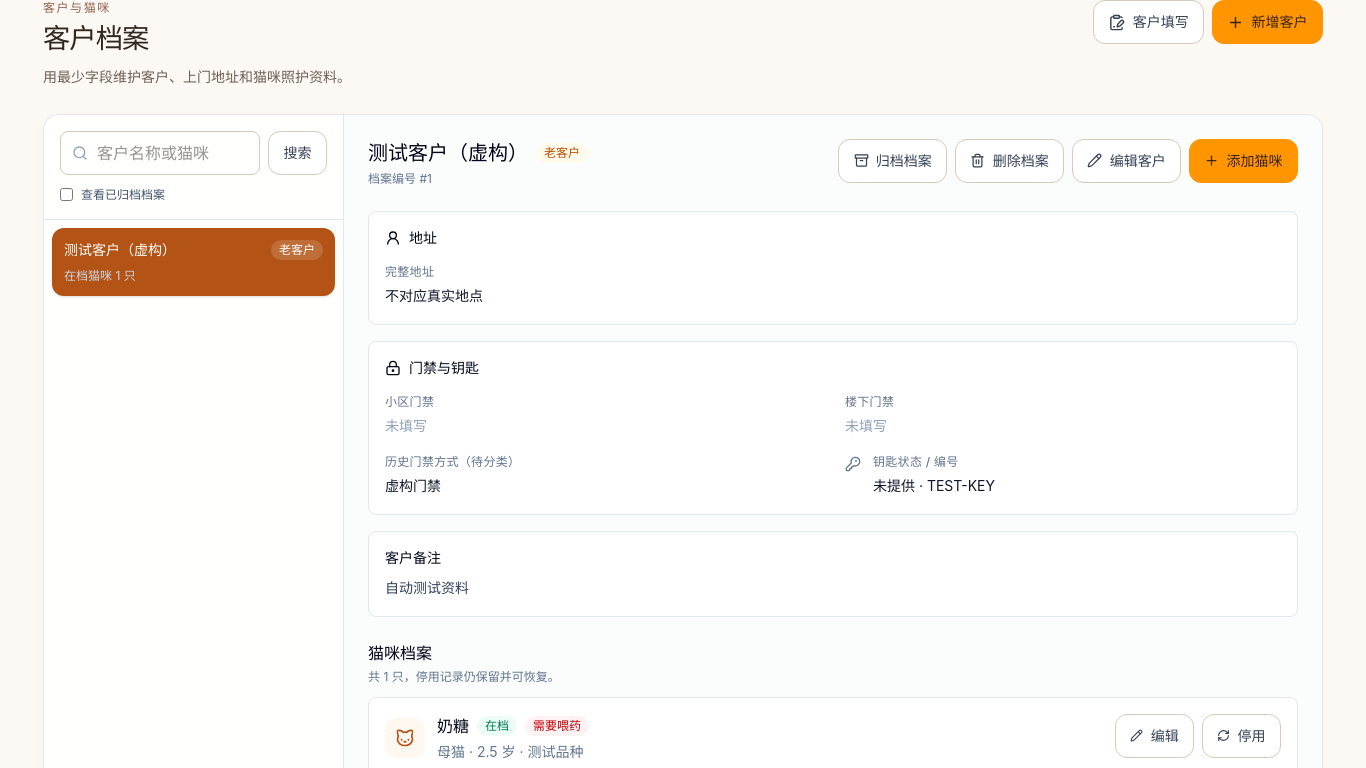
searches, adds a second cat, and soft-disables a cat
The image size is (1366, 768).
Expected: the heading "奶糖" is shown, [437, 714, 469, 738]
Type "奶糖" into the search field named "搜索客户".
click(160, 153); type("奶糖")  # box [60, 131, 260, 175]
Click the button "搜索".
click(298, 153)  # box [268, 131, 327, 175]
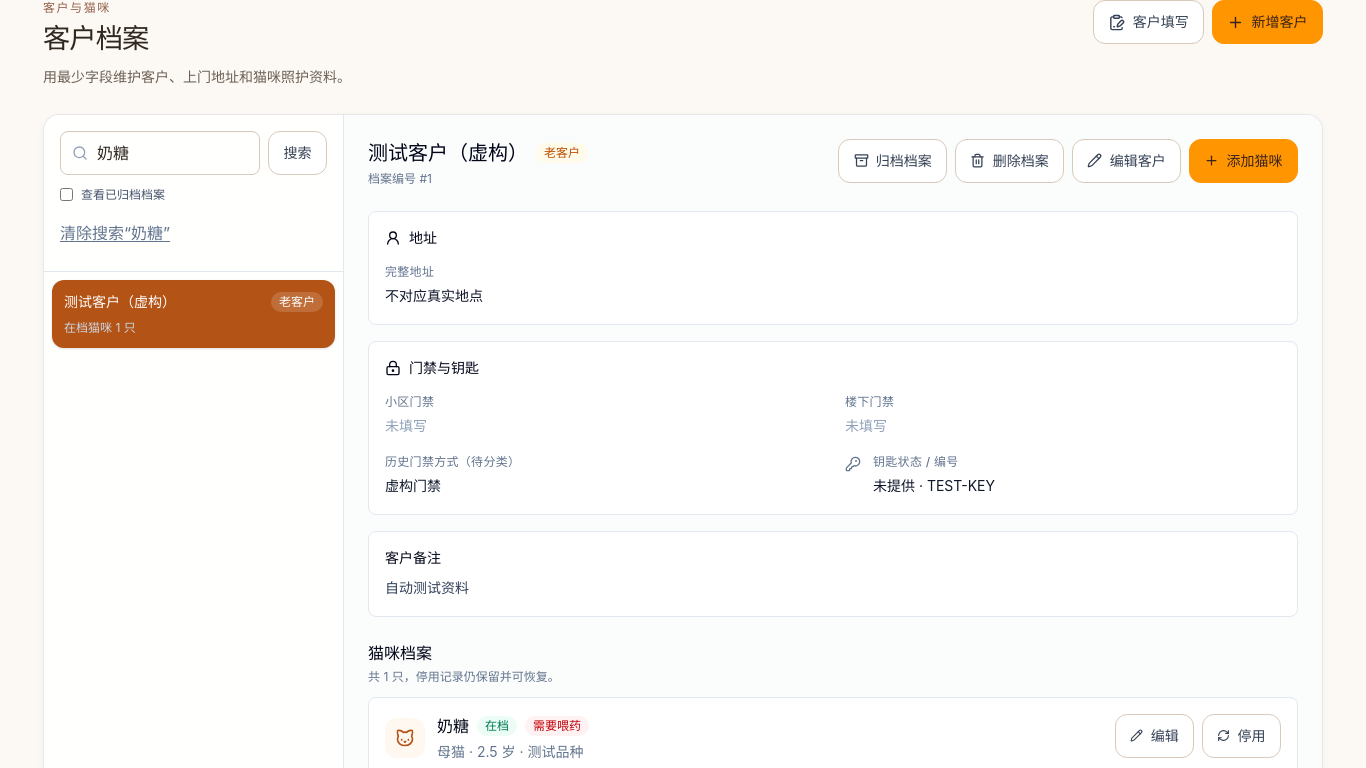
Click the button "添加猫咪".
click(1244, 161)  # box [1189, 139, 1298, 183]
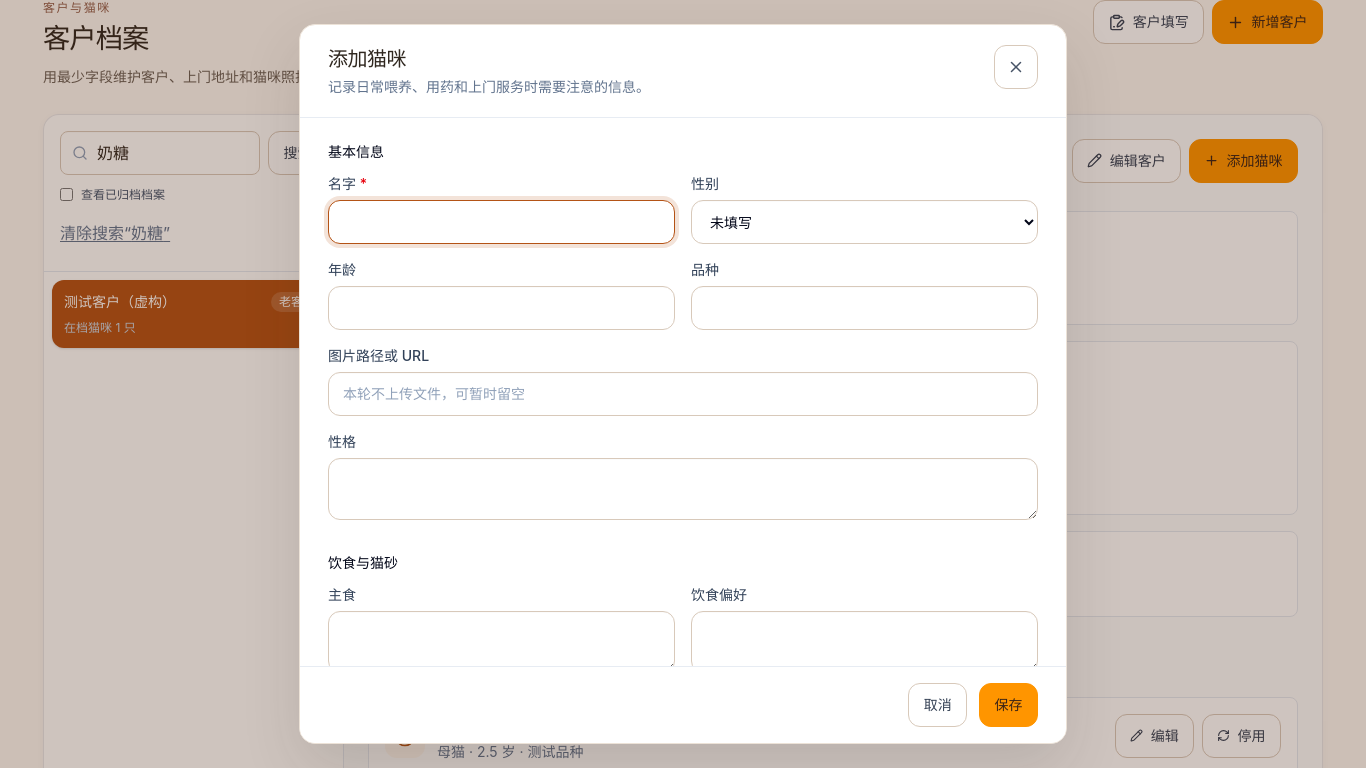
Type "芝麻" into the field labelled "名字 *".
click(502, 222); type("芝麻")  # box [328, 200, 675, 244]
(page scrolled)
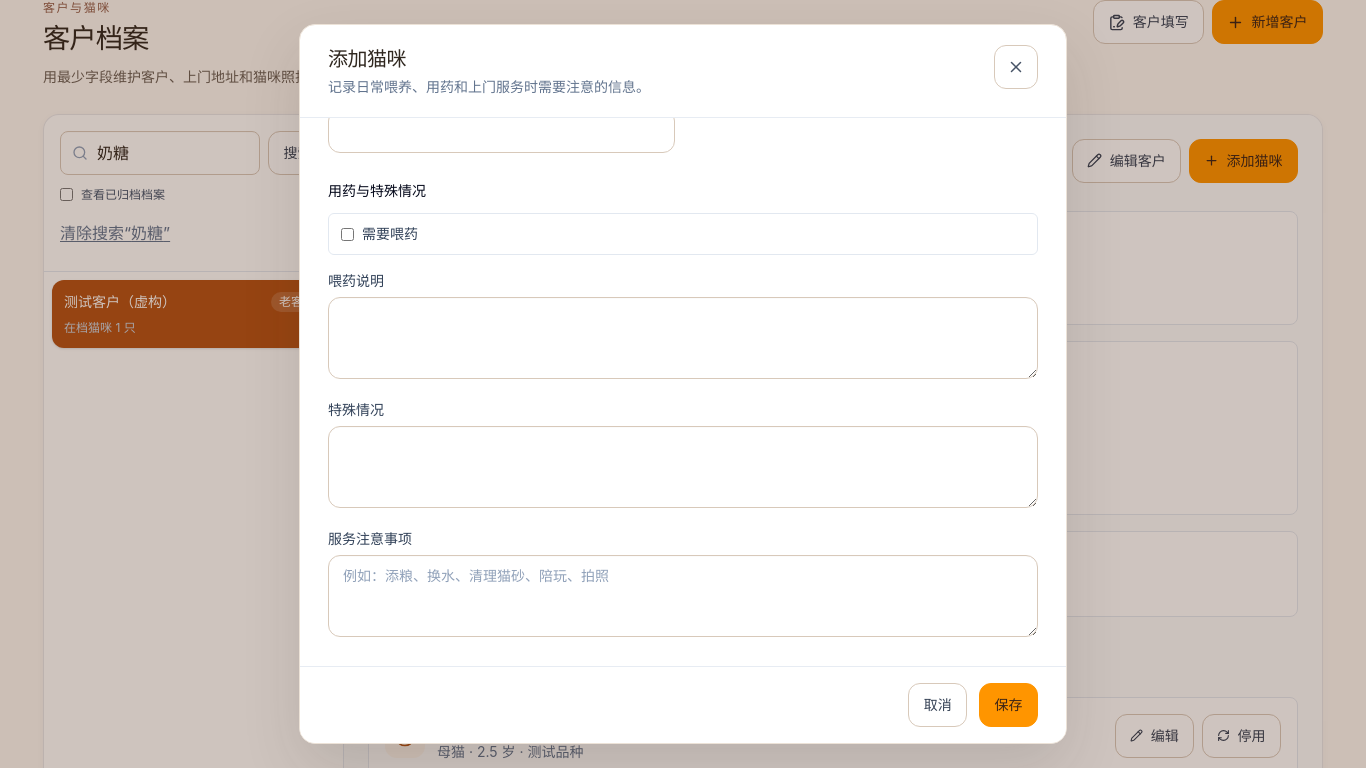
Type "陪玩、拍照" into the text box labelled "服务注意事项".
click(683, 596); type("陪玩、拍照")  # box [328, 555, 1038, 637]
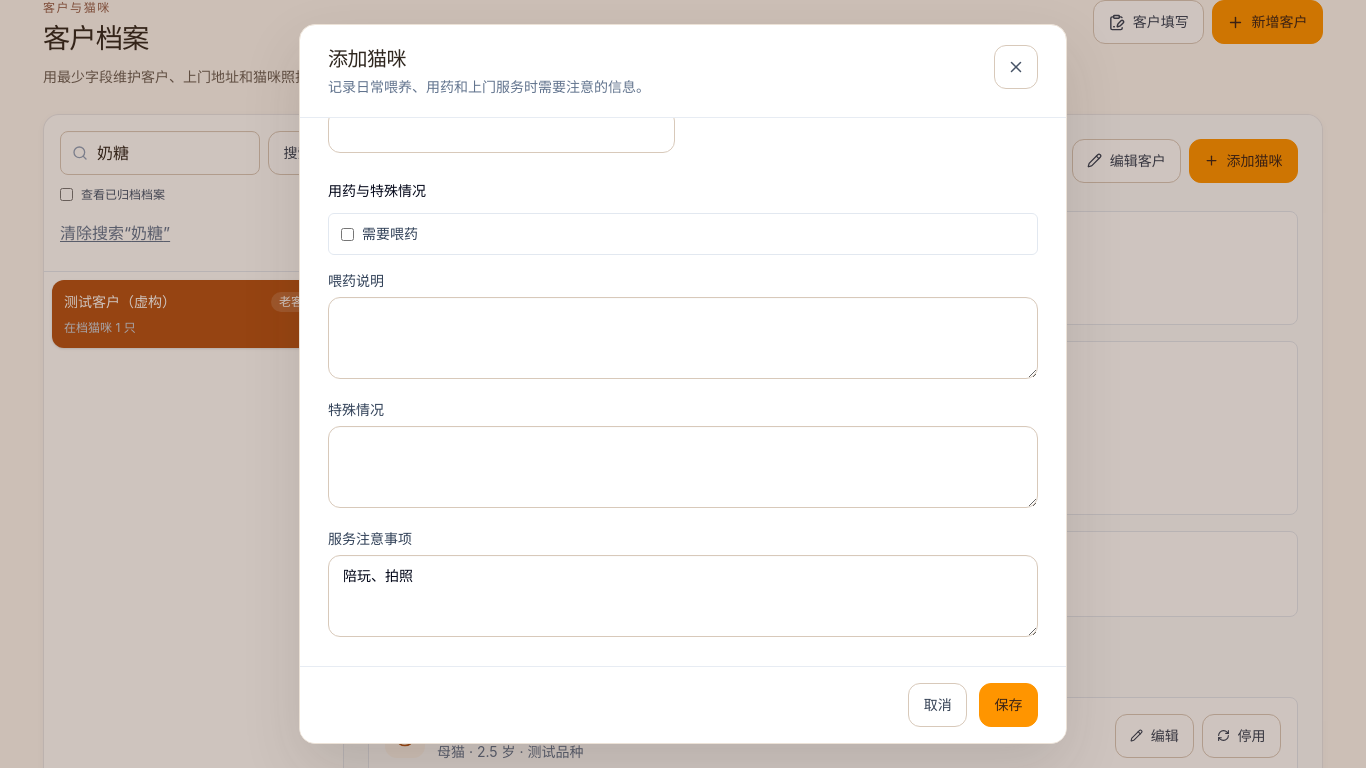
Click the button "保存".
click(1009, 705)  # box [979, 683, 1038, 727]
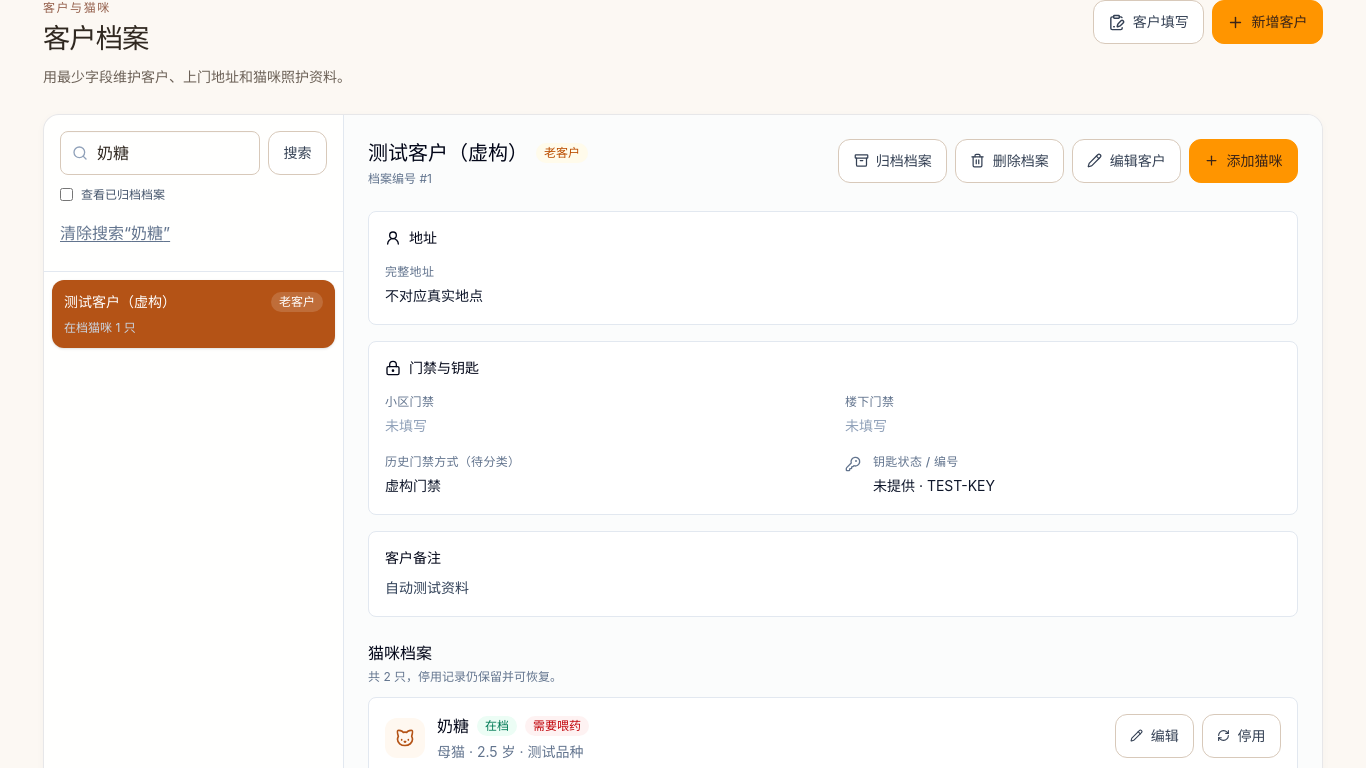
Click the button "停用".
click(1242, 736)  # box [1202, 714, 1281, 758]
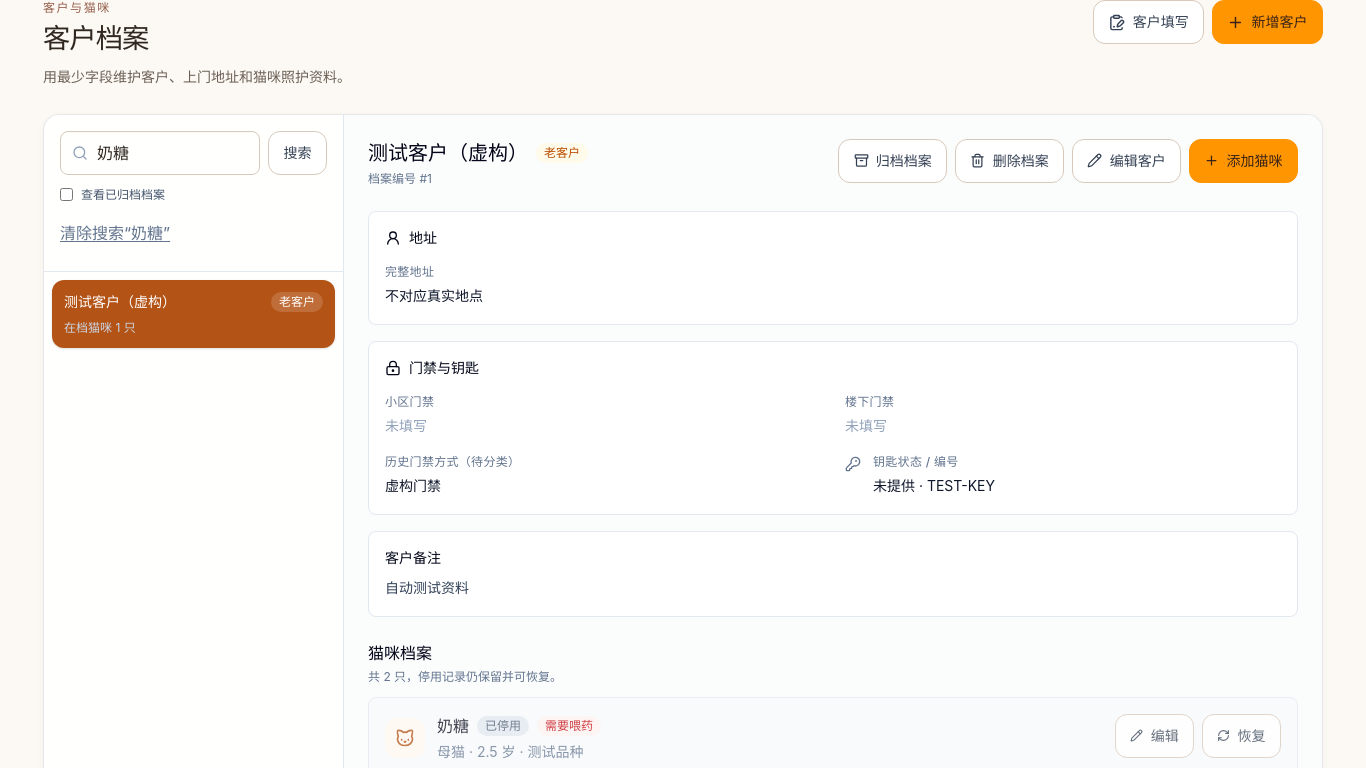
Now the text "已停用" is shown, box [477, 716, 529, 736]
